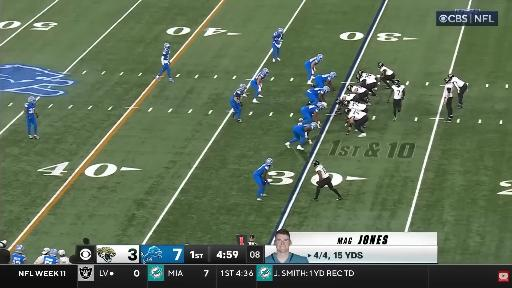Helmet: (15, 245, 24, 254), (313, 160, 321, 168), (50, 248, 57, 257), (27, 96, 34, 104), (163, 42, 171, 49), (394, 78, 401, 85), (343, 108, 351, 114), (263, 68, 269, 75), (239, 84, 246, 90), (267, 159, 273, 166), (331, 71, 337, 78), (324, 86, 330, 93), (318, 103, 324, 110), (357, 74, 363, 81), (344, 99, 349, 107), (312, 122, 318, 128), (448, 74, 454, 80), (445, 77, 451, 83), (278, 27, 283, 34), (348, 84, 353, 91), (318, 55, 323, 61), (337, 98, 342, 104), (378, 63, 383, 68), (359, 71, 364, 75)
Jersey: (254, 164, 270, 177), (451, 77, 465, 90), (348, 110, 366, 120), (316, 165, 329, 178), (24, 102, 36, 116), (361, 73, 376, 84), (392, 86, 404, 99), (272, 31, 283, 45), (348, 102, 366, 110), (12, 254, 26, 264), (307, 88, 324, 96), (444, 83, 453, 98), (231, 89, 243, 100), (304, 106, 319, 114), (254, 72, 266, 82), (380, 66, 393, 75), (44, 256, 58, 264), (351, 86, 367, 93), (162, 49, 169, 65), (303, 124, 316, 131), (308, 57, 320, 64), (320, 74, 331, 81), (345, 95, 355, 101)
Player: (312, 160, 342, 201), (253, 158, 273, 201), (286, 123, 317, 150), (156, 43, 174, 82), (250, 68, 269, 103), (448, 74, 467, 108), (24, 96, 39, 139), (346, 108, 368, 137), (298, 103, 326, 125), (390, 80, 405, 121), (230, 84, 246, 122), (336, 94, 366, 114), (305, 54, 323, 85), (356, 70, 377, 96), (443, 77, 454, 122), (347, 84, 370, 105), (306, 86, 329, 105), (378, 63, 395, 88), (315, 72, 336, 91), (272, 28, 283, 62), (11, 245, 26, 264), (44, 249, 58, 264), (347, 102, 368, 112)
